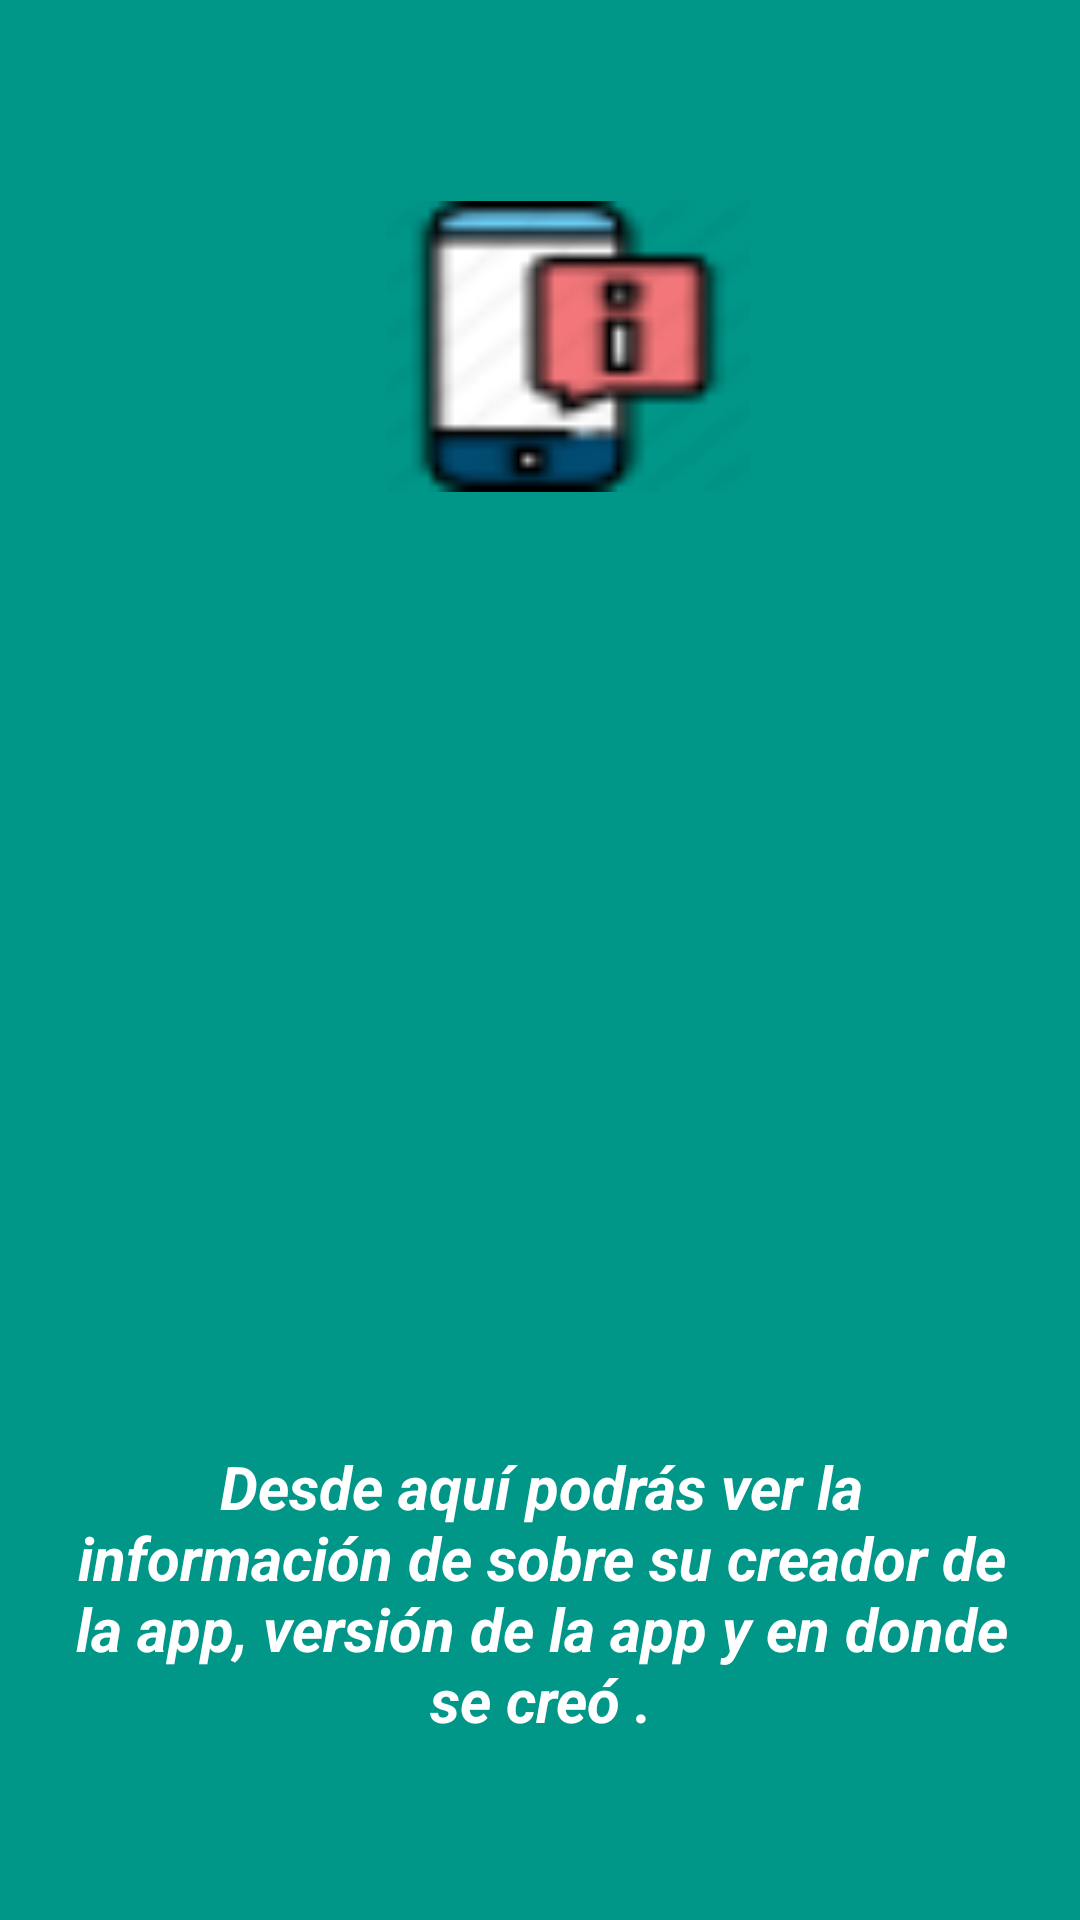

Locate icon controls on the screen. Image size 1080 x 1920, boxes as (x1, y1, x2, y2).
acerca: (417, 201, 719, 492)
